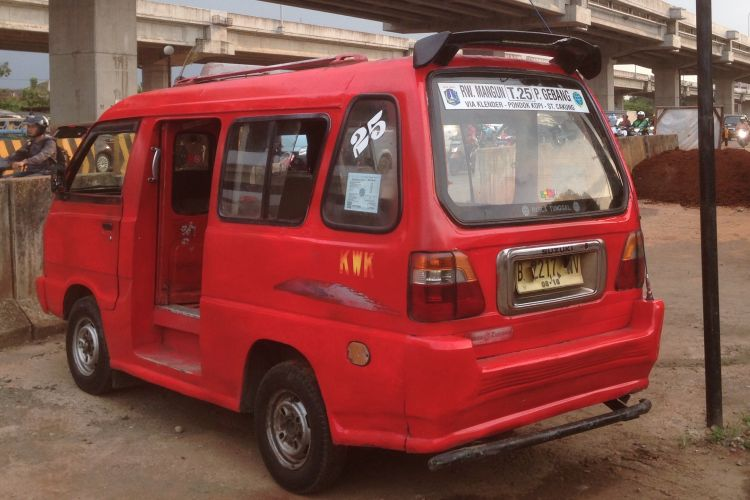plate: (517, 253, 583, 295)
